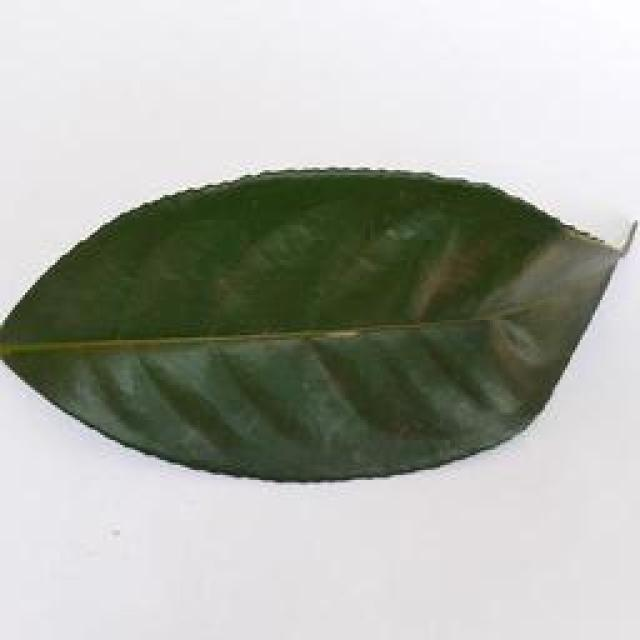Healthy: (2, 158, 640, 481)
